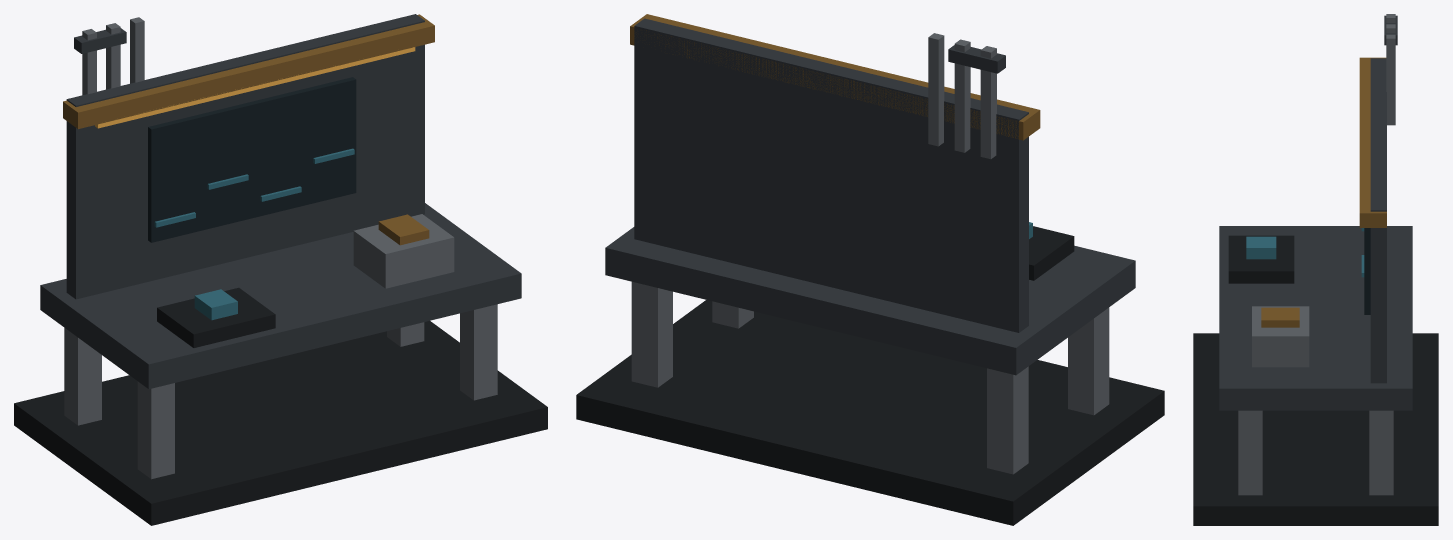
The model's file is fabricator.obj.
3 views of the same model, side by side, from view 1: azimuth 30°, elevation 25°; view 2: azimuth 150°, elevation 25°; view 3: azimuth 270°, elevation 25° (orthographic). The views are drawn at different scales.
Parts seen in each view (by area): view 1: device_fabricator; view 2: device_fabricator; view 3: device_fabricator.
Boxes of the visible parts, x1,y1,x2,y2 form: device_fabricator: (14, 14, 547, 525); device_fabricator: (576, 14, 1164, 525); device_fabricator: (1193, 14, 1438, 525).
Size of the model in its own units: 3 by 2.9 by 1.8.
